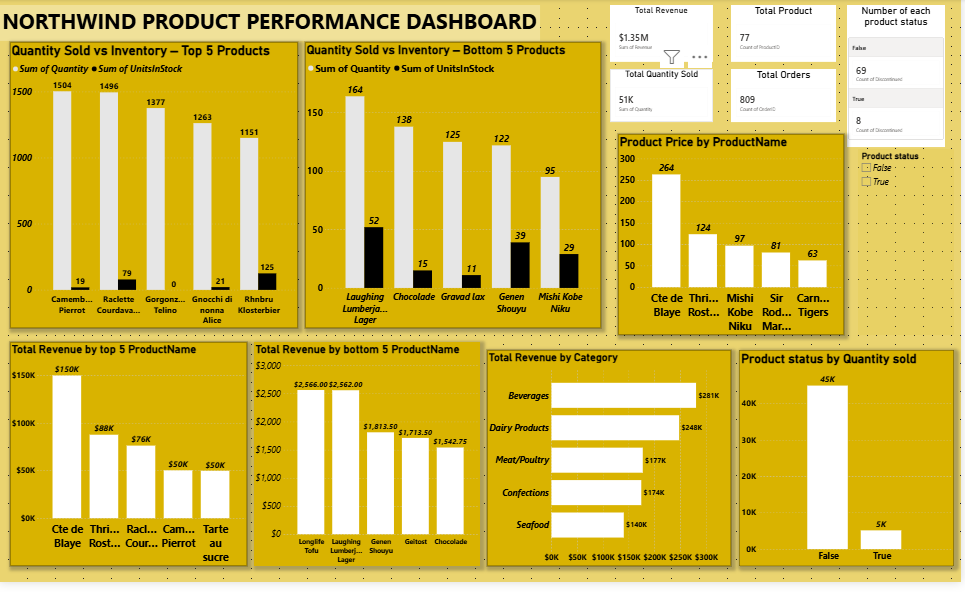

Layout of this report page (visuals, bound fields, positions):
{"tool":"powerbi","page":{"name":"Northwind Product Performance ashboard","canvas":[3300,2000],"ordinal":16},"visuals":[{"type":"cardVisual","title":"Total Product","fields":{"Data":["Count(Products.ProductID)"]},"box":[2509.7,20.6,360,195.4],"z":0},{"type":"cardVisual","title":"Number of each product status","fields":{"Data":["CountNonNull(Products.Discontinued)"],"Rows":["Products.Discontinued"]},"box":[2907.4,20.6,336,486.9],"z":1000},{"type":"cardVisual","title":"Total Orders","fields":{"Data":["Count(Orders.OrderID)"]},"box":[2509.7,240,360,181.7],"z":2000},{"type":"cardVisual","title":"Total  Revenue","fields":{"Data":["Sum(OrderDetails.Revenue)"]},"box":[2094.9,20.6,353.1,195.4],"z":3000},{"type":"cardVisual","title":"Total Quantity Sold","fields":{"Data":["Sum(OrderDetails.Quantity)"]},"box":[2094.9,240,353.1,181.7],"z":4000},{"type":"columnChart","title":"Total Revenue by top 5  ProductName","fields":{"Category":["Products.ProductName"],"Y":["Sum(OrderDetails.Revenue)"]},"box":[37.7,1176,812.6,768],"z":5000},{"type":"barChart","title":"Total Revenue by Category","fields":{"Y":["Sum(OrderDetails.Revenue)"],"Category":["Categories.CategoryName"]},"box":[1673.1,1203.4,836.6,740.6],"z":6000},{"type":"columnChart","title":"Total Revenue by bottom 5 ProductName","fields":{"Category":["Products.ProductName"],"Y":["Sum(OrderDetails.Revenue)"]},"box":[874.3,1176,774.9,768],"z":7000},{"type":"columnChart","title":"Product status by Quantity sold","fields":{"Category":["Products.Discontinued"],"Y":["Sum(OrderDetails.Quantity)"]},"box":[2537.1,1203.4,737.1,740.6],"z":8000},{"type":"columnChart","title":"Product Price by ProductName","fields":{"Category":["Products.ProductName"],"Y":["Sum(Products.UnitPrice)"]},"box":[2122.3,462.9,774.9,689.1],"z":9000},{"type":"slicer","fields":{"Values":["Products.Discontinued"]},"box":[2945.1,514.3,329.1,637.7],"z":10000},{"type":"textbox","box":[0,20.6,1854.9,123.4],"z":11000},{"type":"clusteredColumnChart","title":"Quantity Sold vs Inventory – Top 5 Products","fields":{"Y":["Sum(OrderDetails.Quantity)","Sum(Products.UnitsInStock)"],"Category":["Products.ProductName"]},"box":[37.7,147.4,987.4,980.6],"z":12000},{"type":"clusteredColumnChart","title":"Quantity Sold vs Inventory – Bottom 5 Products","fields":{"Category":["Products.ProductName"],"Y":["Sum(OrderDetails.Quantity)","Sum(Products.UnitsInStock)"]},"box":[1049.1,147.4,1014.9,980.6],"z":13000}]}

Visuals, with their boxes in screenshot pixels (x1, y1, x2, y2), scaled from the page's 3300x2000 canvas onto the 965x592 screenshot:
"Total Product" cardVisual: bbox=(734, 6, 839, 64)
"Number of each product status" cardVisual: bbox=(850, 6, 948, 150)
"Total Orders" cardVisual: bbox=(734, 71, 839, 125)
"Total  Revenue" cardVisual: bbox=(613, 6, 716, 64)
"Total Quantity Sold" cardVisual: bbox=(613, 71, 716, 125)
"Total Revenue by top 5  ProductName" columnChart: bbox=(11, 348, 249, 575)
"Total Revenue by Category" barChart: bbox=(489, 356, 734, 575)
"Total Revenue by bottom 5 ProductName" columnChart: bbox=(256, 348, 482, 575)
"Product status by Quantity sold" columnChart: bbox=(742, 356, 957, 575)
"Product Price by ProductName" columnChart: bbox=(621, 137, 847, 341)
slicer - Products.Discontinued: bbox=(861, 152, 957, 341)
textbox: bbox=(0, 6, 542, 43)
"Quantity Sold vs Inventory – Top 5 Products" clusteredColumnChart: bbox=(11, 44, 300, 334)
"Quantity Sold vs Inventory – Bottom 5 Products" clusteredColumnChart: bbox=(307, 44, 604, 334)
